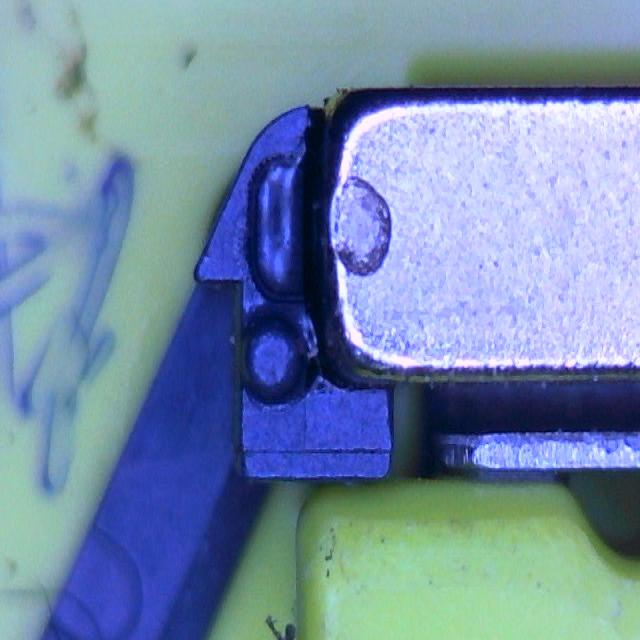over: (246, 156, 316, 308)
